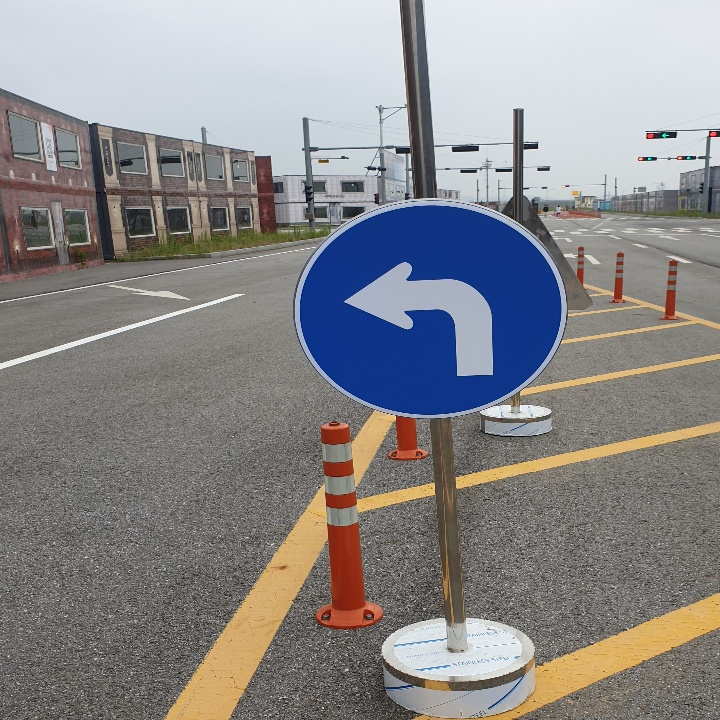left: (334, 247, 508, 387)
